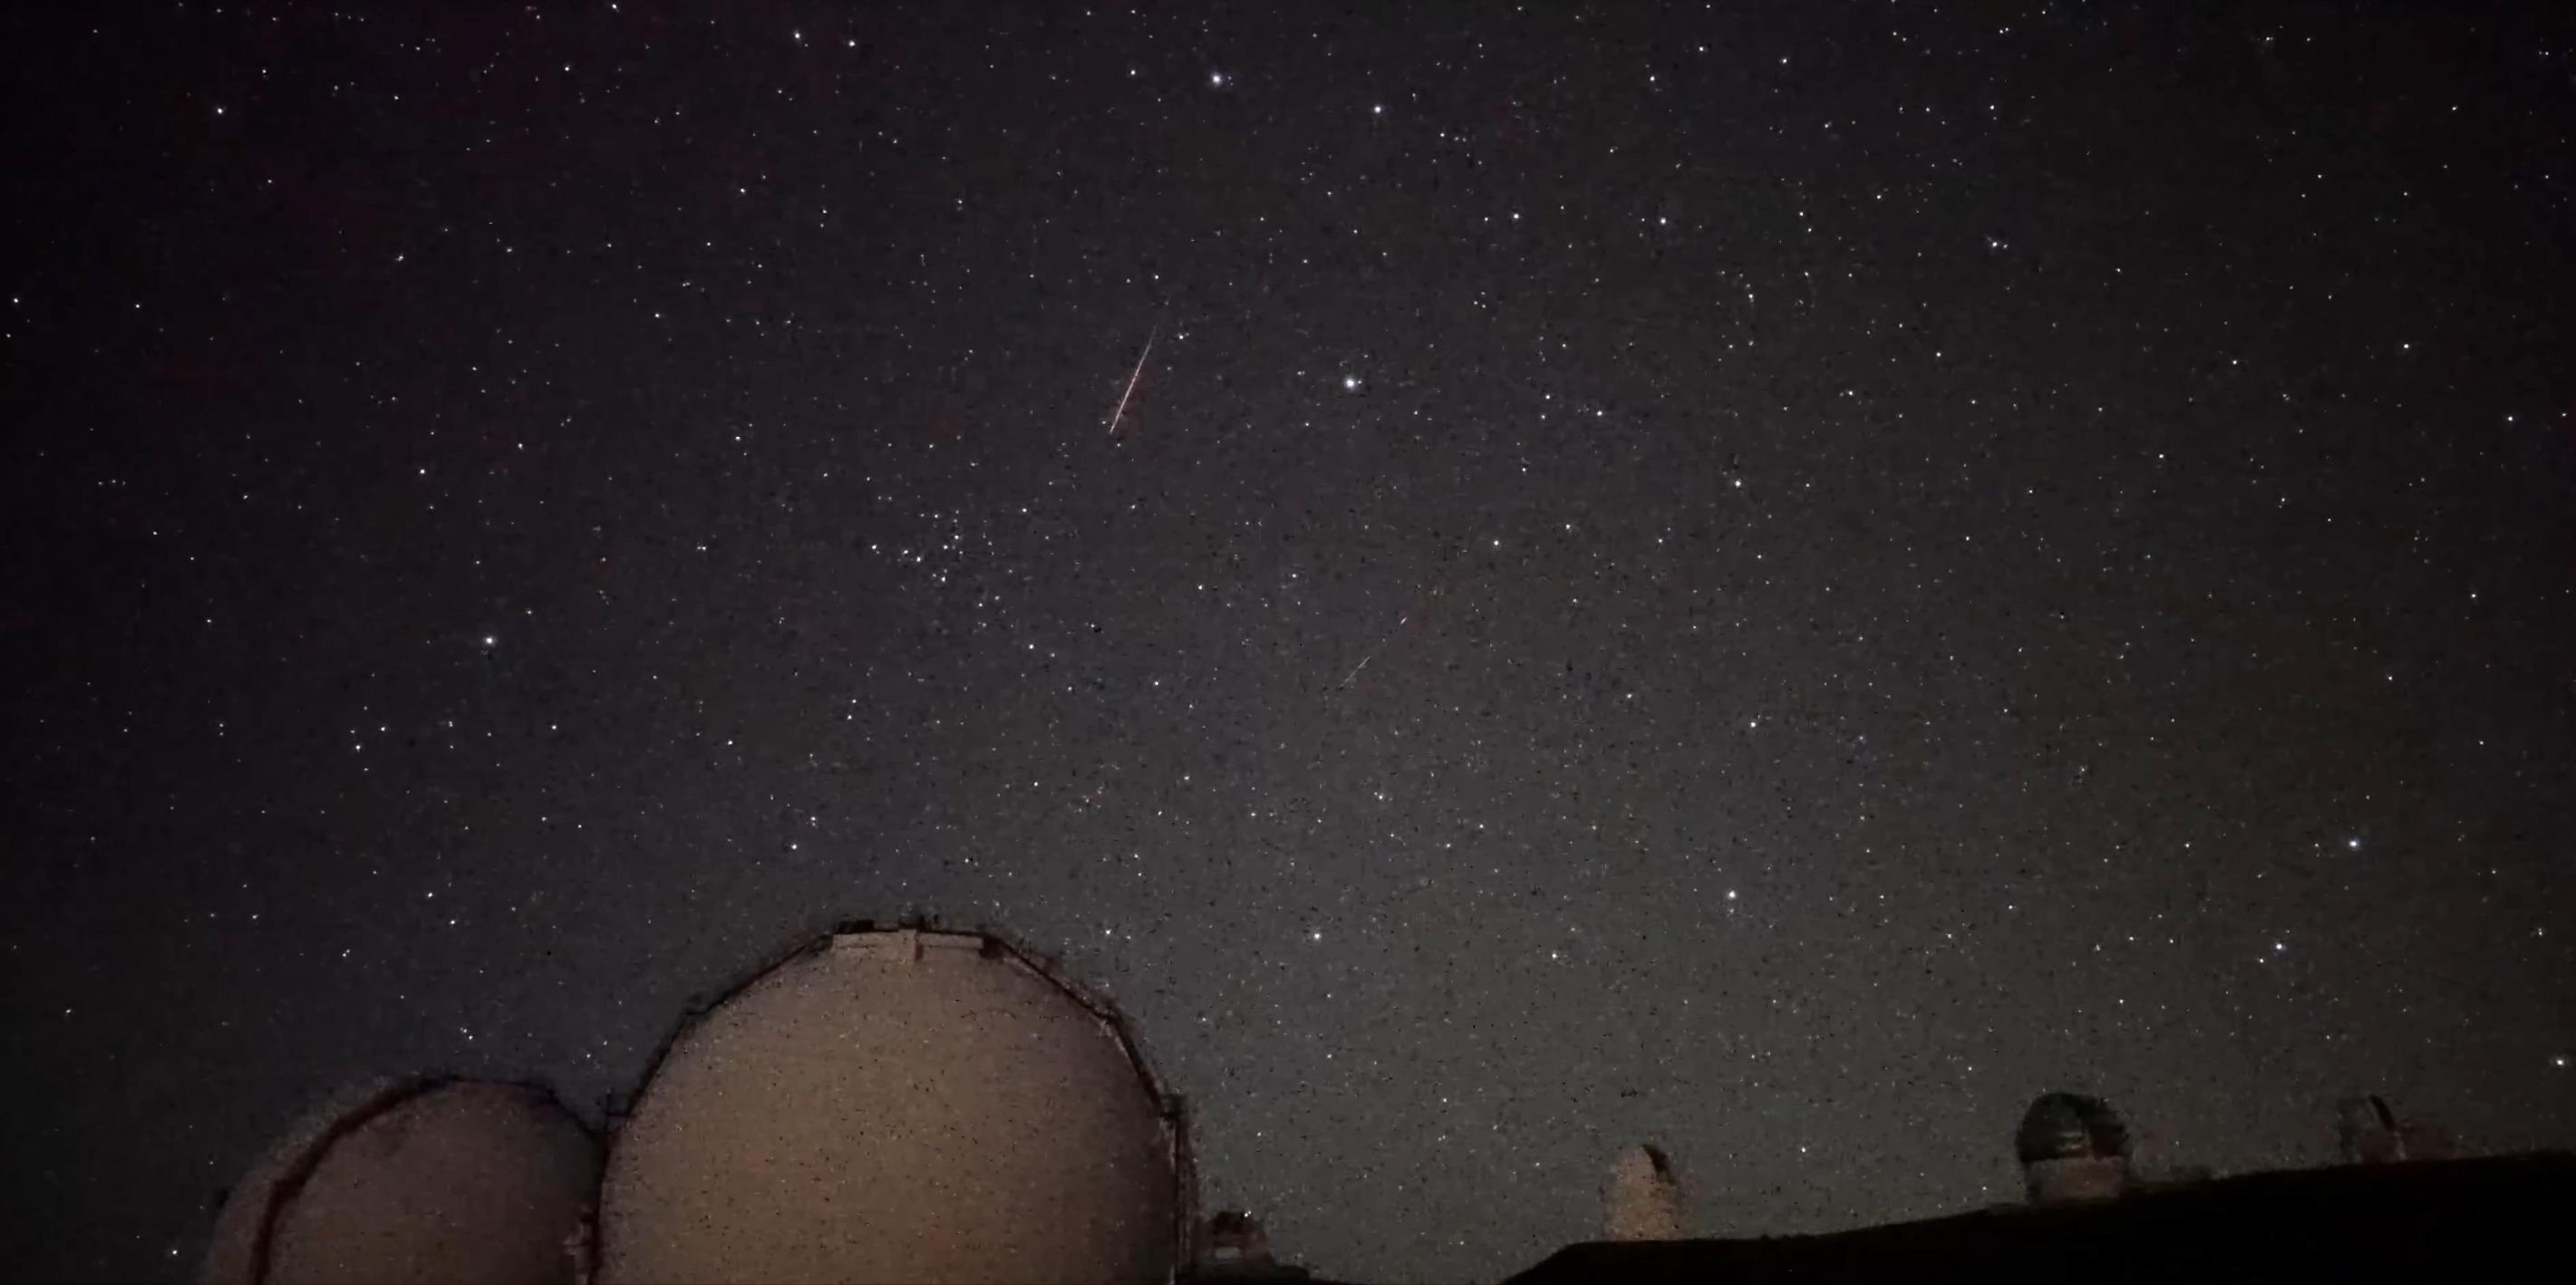meteorite: (1074, 314, 1181, 457)
